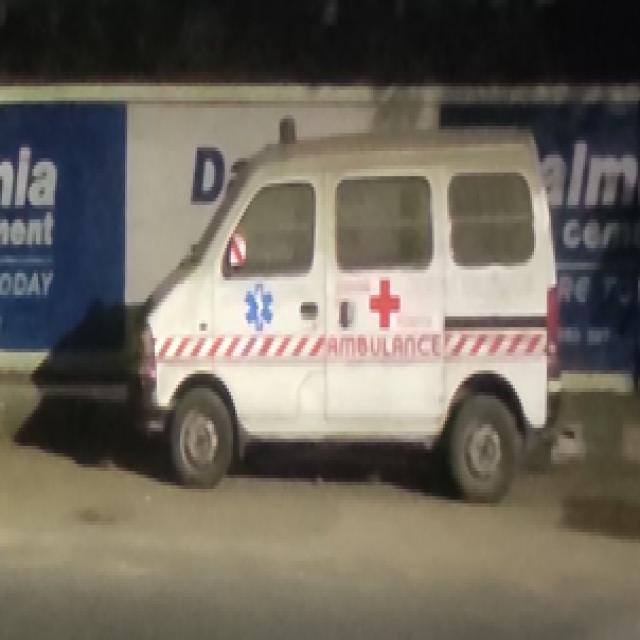van: (134, 126, 562, 496)
